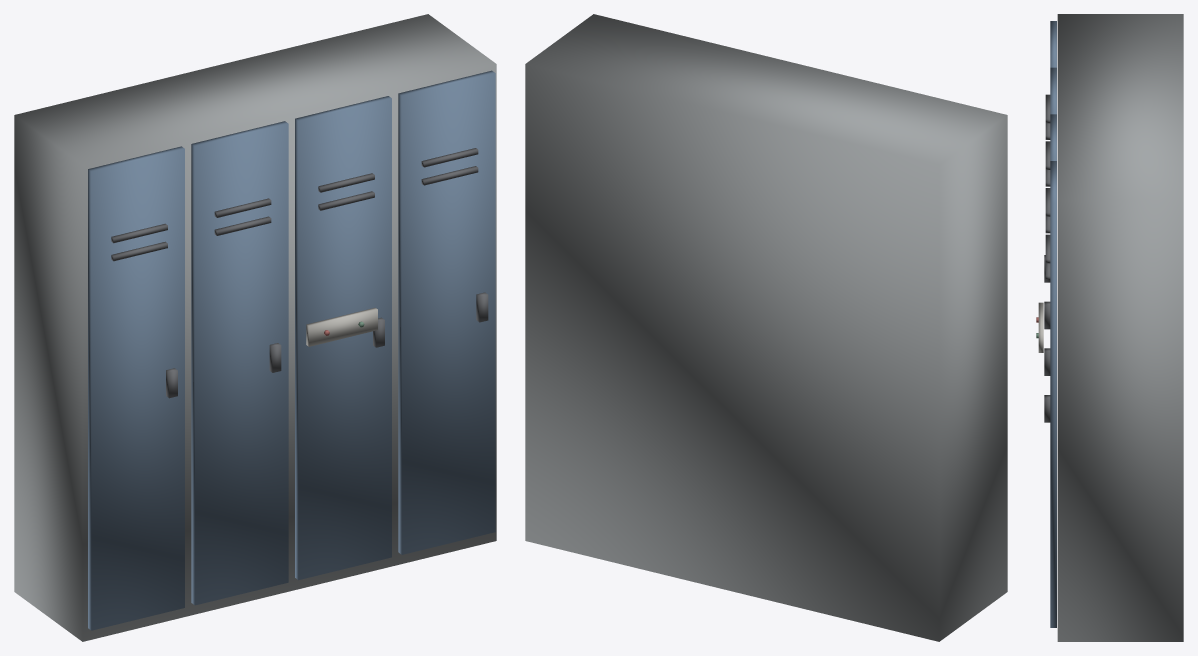
File: school_locker_bank.glb
3 renders of one model, left to right at view 1: azimuth 30°, elevation 25°; view 2: azimuth 150°, elevation 25°; view 3: azimuth 270°, elevation 25°, orthographic. The views are drawn at different scales.
Visible parts, largest first — view 1: world; view 2: world; view 3: world.
Part boxes in pixels (box(x1,y1,x2,y2)): world: box(14, 14, 496, 641); world: box(525, 14, 1007, 641); world: box(1036, 14, 1183, 641).
Size of the model in its own units: 1.68 by 1.85 by 0.561.
